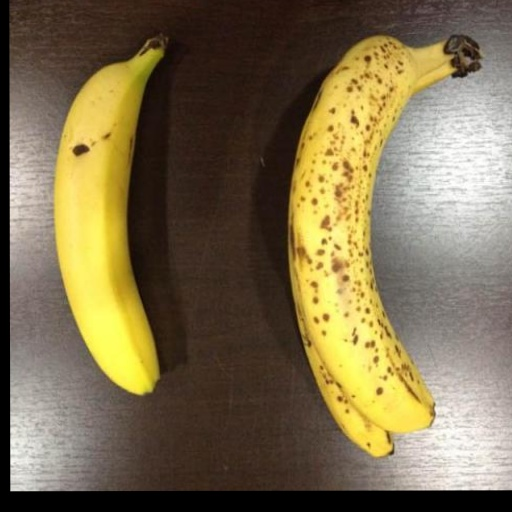fruit: (288, 36, 480, 453), (54, 35, 166, 393)
